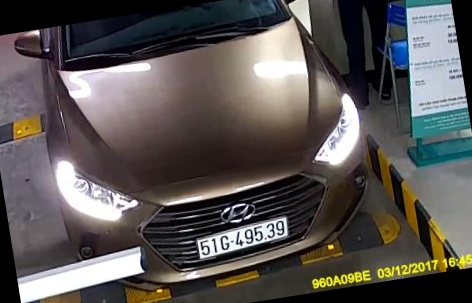plate: (193, 219, 290, 257)
